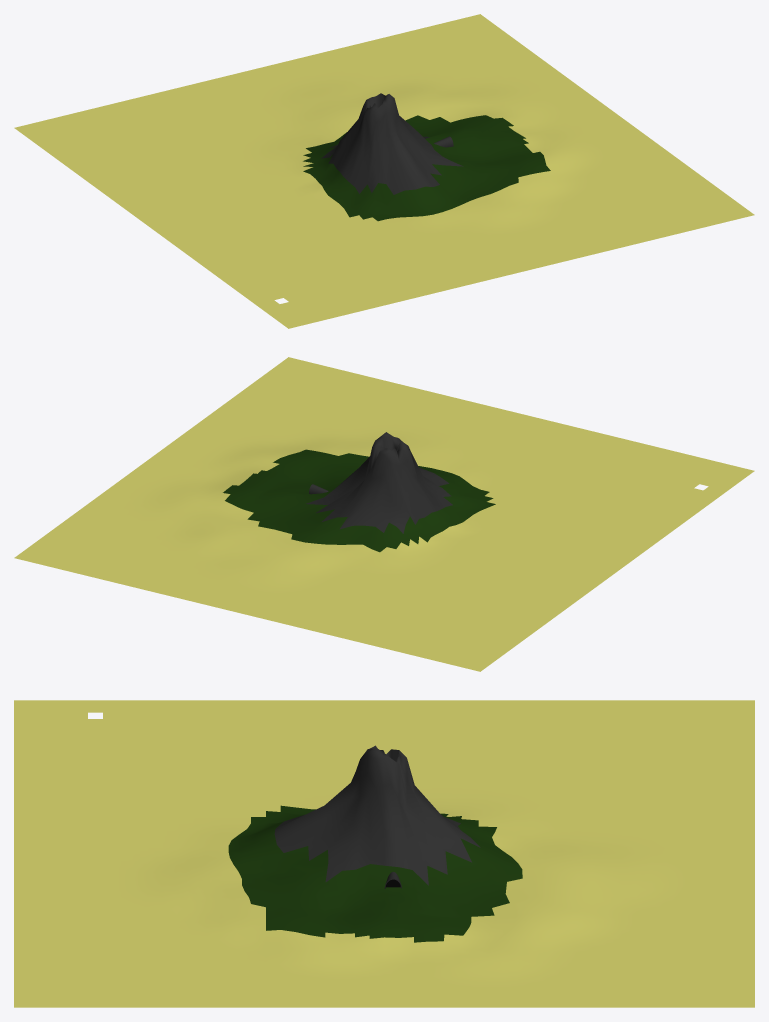
Rendered from Island_Cave.FBX.
The picture shows the model from 3 angles, top to bottom: view 1: azimuth 30°, elevation 25°; view 2: azimuth 150°, elevation 25°; view 3: azimuth 270°, elevation 25°; orthographic projection. The views are drawn at different scales.
Parts seen in each view (by area): view 1: Object001, Plane001, Object002; view 2: Object001, Plane001, Object002; view 3: Object001, Plane001, Object002.
Part boxes in pixels (x1=…): Object001: x1=14, y1=14, x2=754, y2=328; Plane001: x1=303, y1=115, x2=550, y2=221; Object002: x1=321, y1=93, x2=463, y2=194; Object001: x1=14, y1=357, x2=754, y2=671; Plane001: x1=223, y1=449, x2=495, y2=552; Object002: x1=306, y1=432, x2=452, y2=533; Object001: x1=14, y1=700, x2=754, y2=1007; Plane001: x1=228, y1=805, x2=522, y2=942; Object002: x1=274, y1=745, x2=480, y2=885.
Bounding box in the file's own units: 136 × 22.26 × 139.
